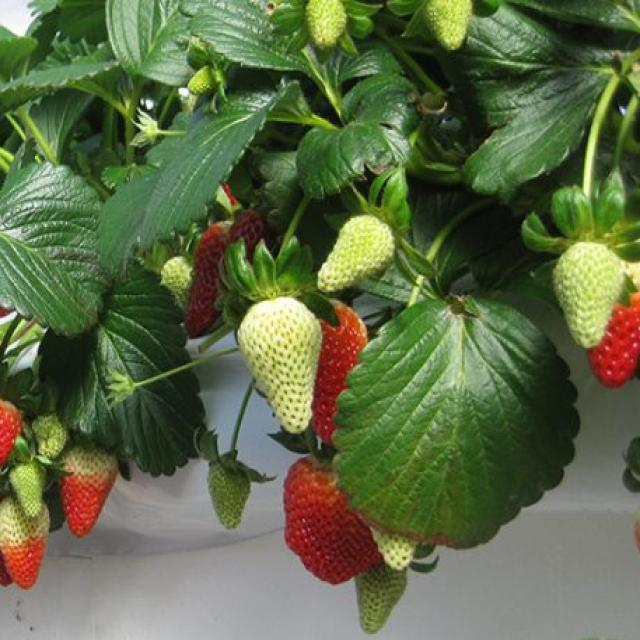Ripe Strawberry: (271, 447, 381, 592), (305, 293, 385, 439), (184, 212, 234, 364), (592, 254, 640, 391), (63, 456, 112, 543), (7, 545, 47, 603), (0, 396, 21, 466)
